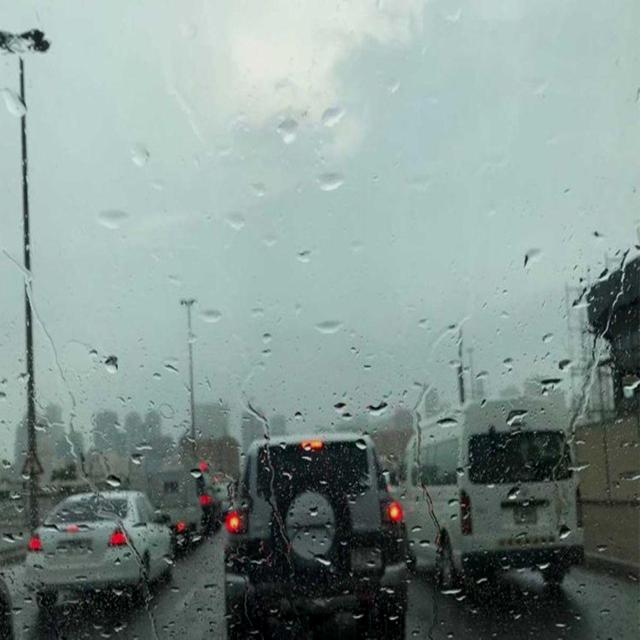Car: (217, 436, 416, 634), (26, 492, 173, 612), (186, 467, 222, 528), (212, 481, 236, 520)
Truck: (145, 468, 205, 547)
Van: (394, 395, 585, 593)
